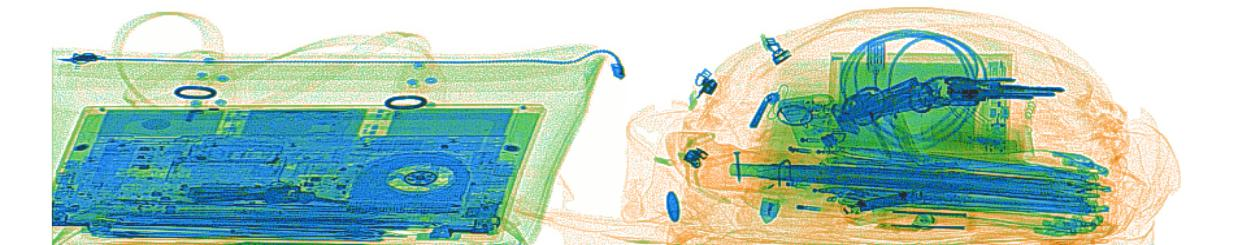battery: (853, 191, 913, 212)
